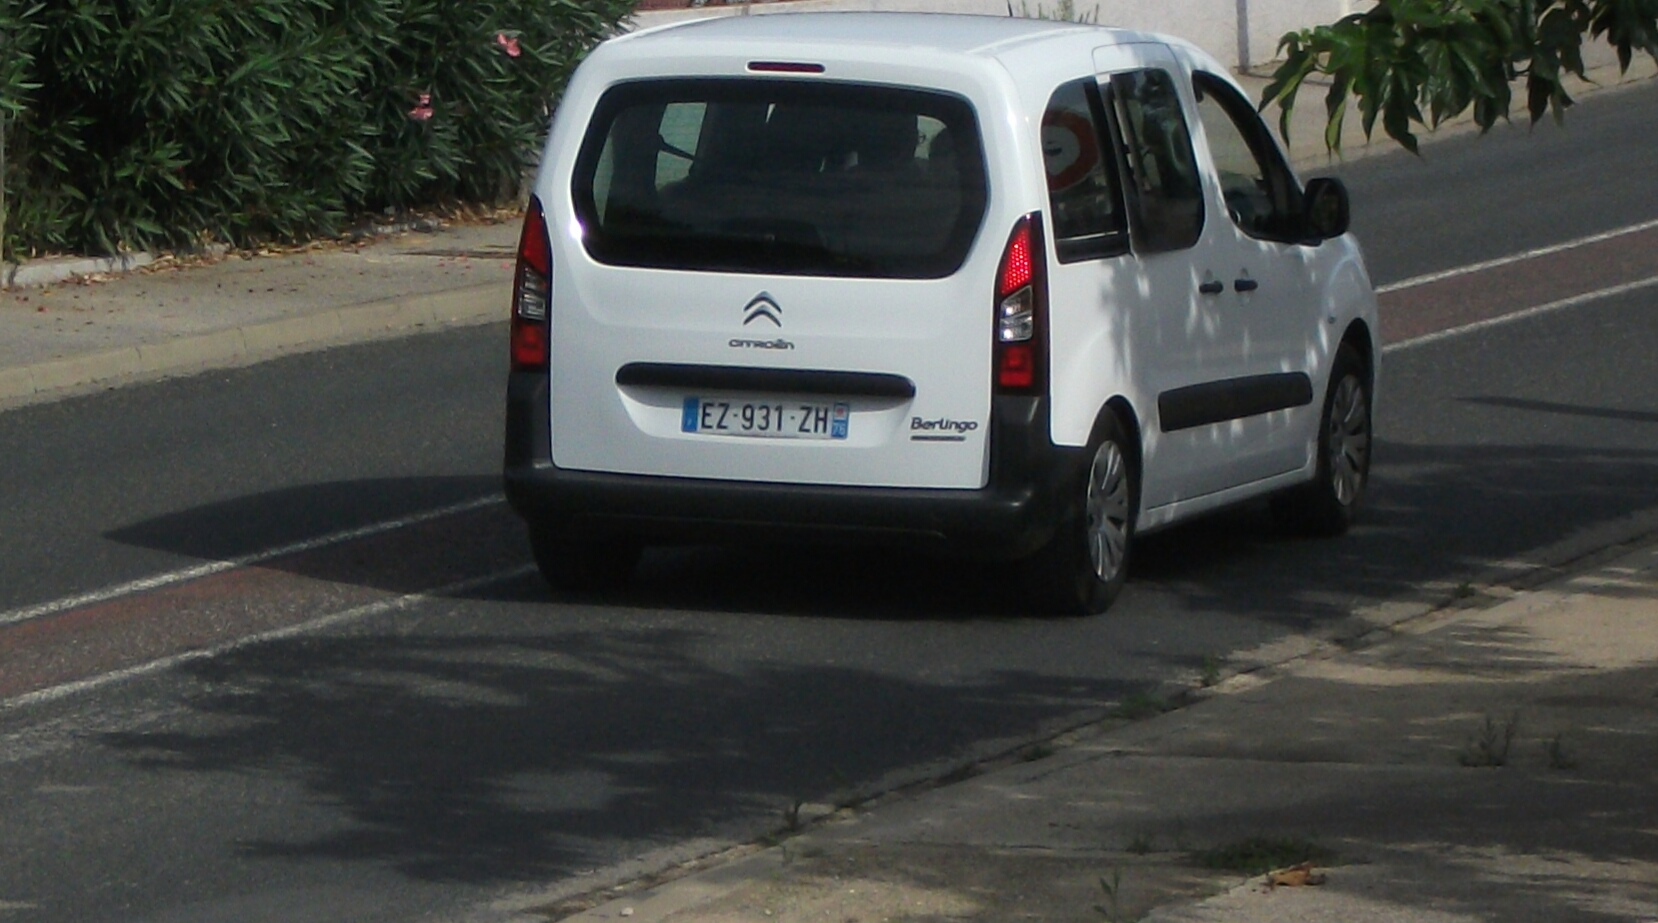licence plate: (674, 388, 854, 450)
